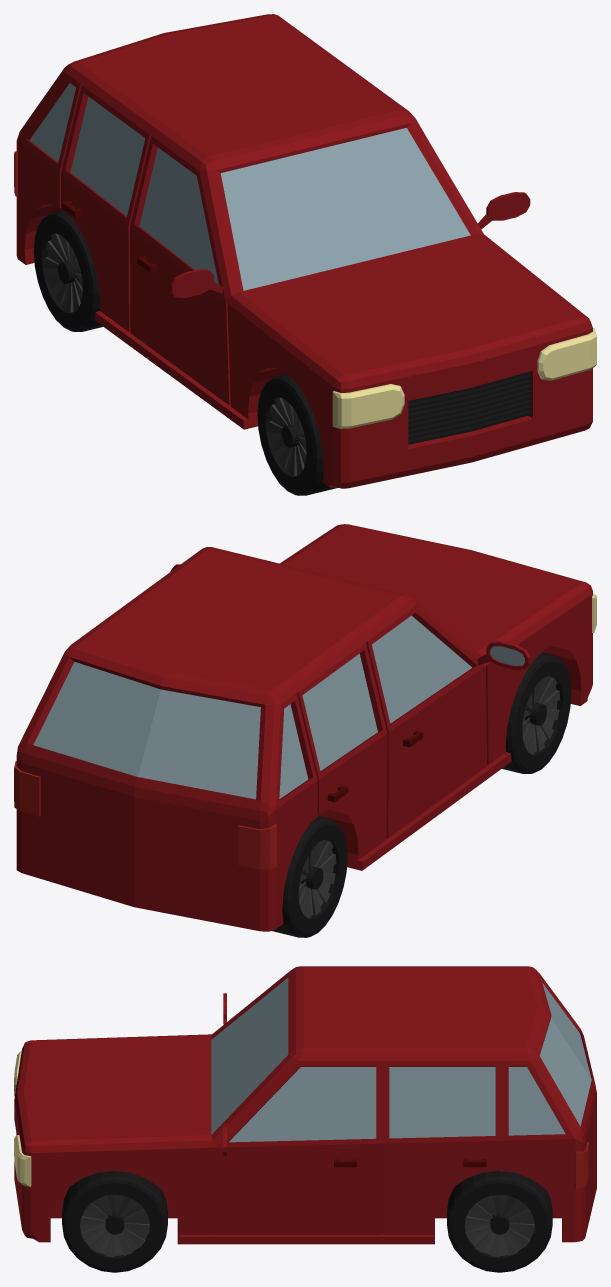
File: CarRed.fbx
3 views of the same model, one above another, from view 1: azimuth 30°, elevation 25°; view 2: azimuth 150°, elevation 25°; view 3: azimuth 270°, elevation 25° (orthographic). The views are drawn at different scales.
Parts seen in each view (by area): view 1: Cube; view 2: Cube; view 3: Cube.
Boxes of the visible parts, box(x1,y1,x2,y2) form: Cube: box(14, 14, 596, 495); Cube: box(14, 524, 596, 937); Cube: box(14, 966, 596, 1272).
Bounding box in the file's own units: 222 × 147 × 364.
